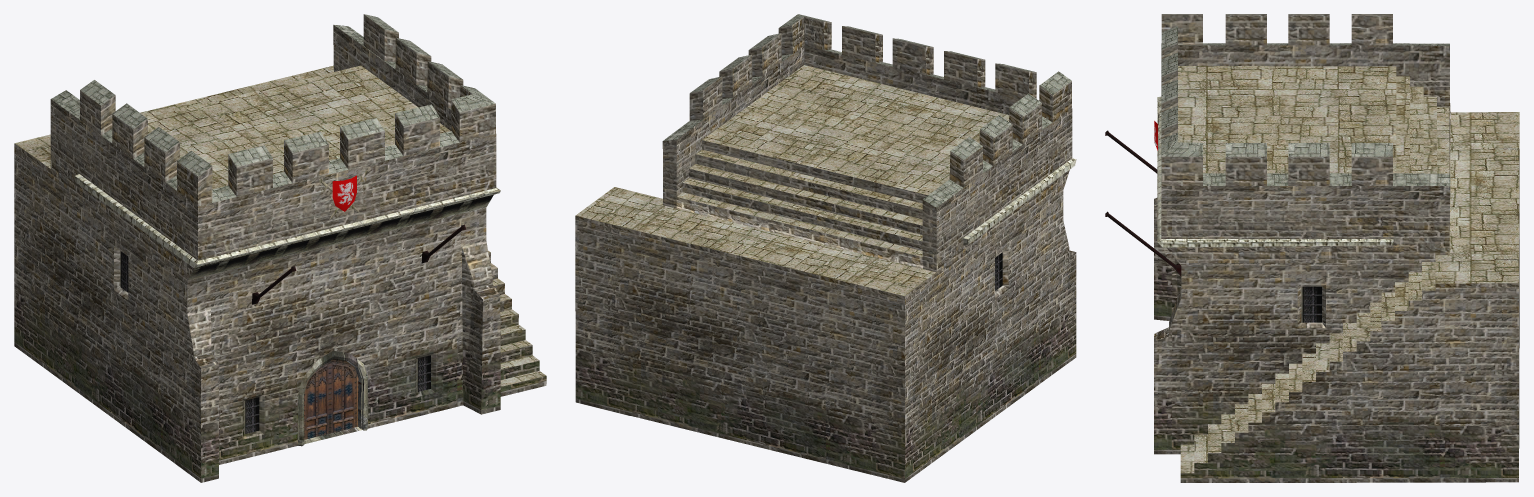
The model's file is building_barrack_stone.glb.
3 renders of one model, left to right at view 1: azimuth 30°, elevation 25°; view 2: azimuth 150°, elevation 25°; view 3: azimuth 270°, elevation 25°, orthographic. The views are drawn at different scales.
Parts seen in each view (by area): view 1: building_barrack_stone; view 2: building_barrack_stone; view 3: building_barrack_stone.
Boxes of the visible parts, x1,y1,x2,y2 form: building_barrack_stone: (14,14,546,482); building_barrack_stone: (575,14,1076,482); building_barrack_stone: (1105,14,1519,482).
Size of the model in its own units: 12.47 by 10.2 by 12.57.
7 materials, 7 textured.
